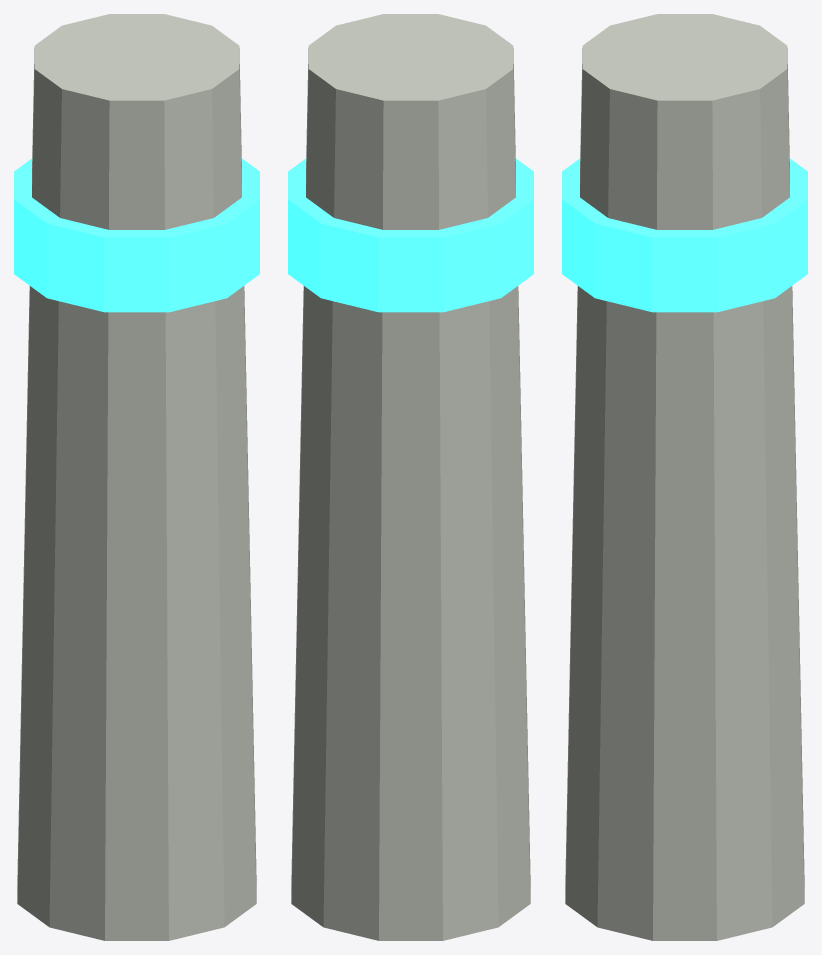
Rendered from City_Bollard_Post.glb.
The picture shows the model from 3 angles, left to right: view 1: azimuth 30°, elevation 25°; view 2: azimuth 150°, elevation 25°; view 3: azimuth 270°, elevation 25°; orthographic projection.
Parts seen in each view (by area): view 1: City_Bollard_Post; view 2: City_Bollard_Post; view 3: City_Bollard_Post.
Part boxes in pixels (bbox=[...]): City_Bollard_Post: bbox=[14, 14, 259, 940]; City_Bollard_Post: bbox=[288, 14, 533, 940]; City_Bollard_Post: bbox=[562, 14, 807, 940].
Bounding box in the file's own units: 0.2086 × 0.78 × 0.2086.
